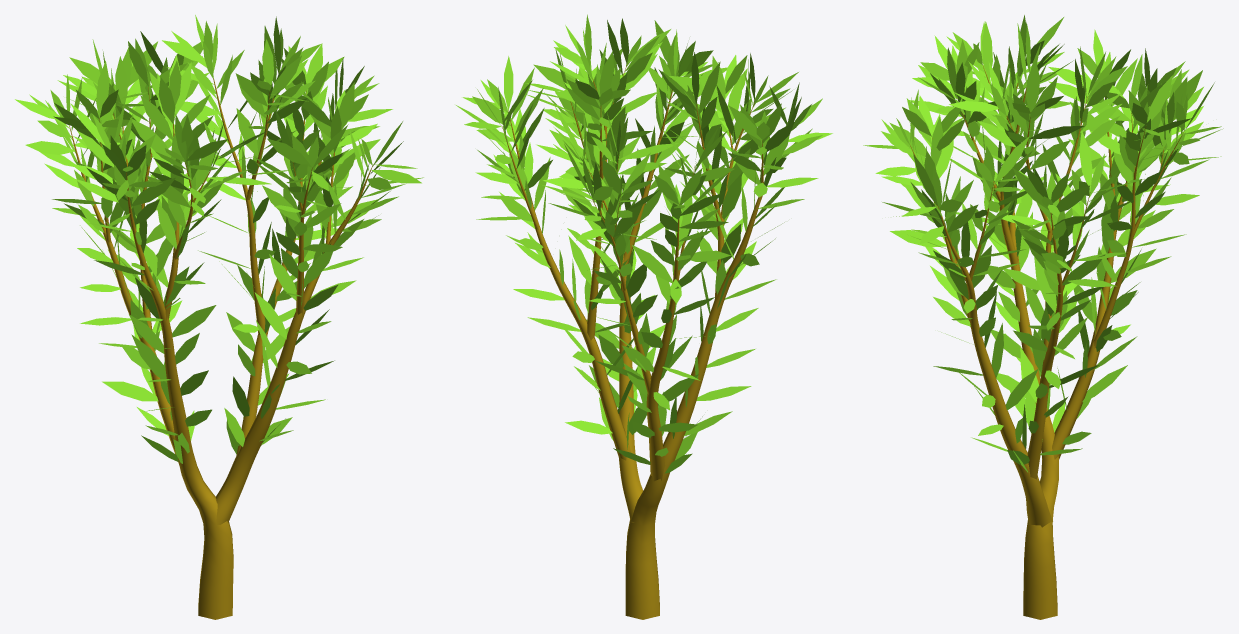
Rendered from Tree_Olivier_.fbx.
The picture shows the model from 3 angles, left to right: view 1: azimuth 30°, elevation 25°; view 2: azimuth 150°, elevation 25°; view 3: azimuth 270°, elevation 25°; orthographic projection.
Visible parts, largest first — view 1: leaves, tree; view 2: leaves, tree; view 3: leaves, tree.
Boxes of the visible parts, x1=… form: leaves: x1=15, y1=15, x2=423, y2=463; tree: x1=69, y1=71, x2=373, y2=619; leaves: x1=456, y1=14, x2=832, y2=473; tree: x1=501, y1=64, x2=763, y2=619; leaves: x1=863, y1=15, x2=1223, y2=472; tree: x1=910, y1=65, x2=1184, y2=619.
Bounding box in the file's own units: 177 × 308 × 174.
